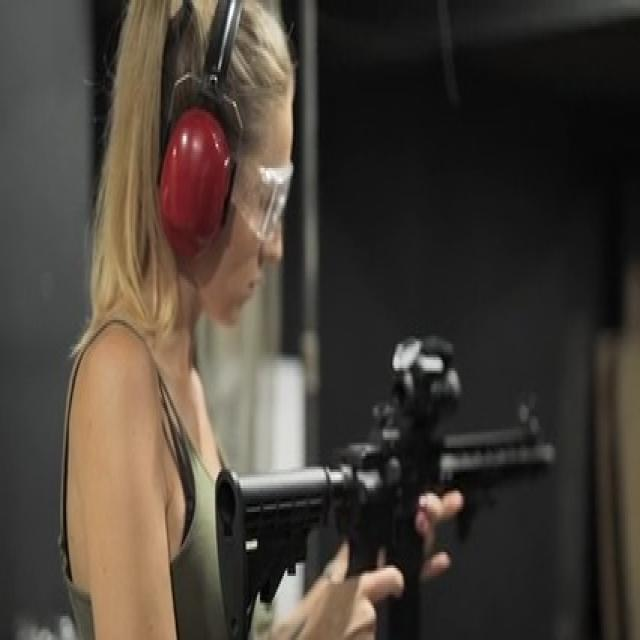Gun_Holder: (191, 333, 612, 626)
Person: (57, 0, 407, 640)
